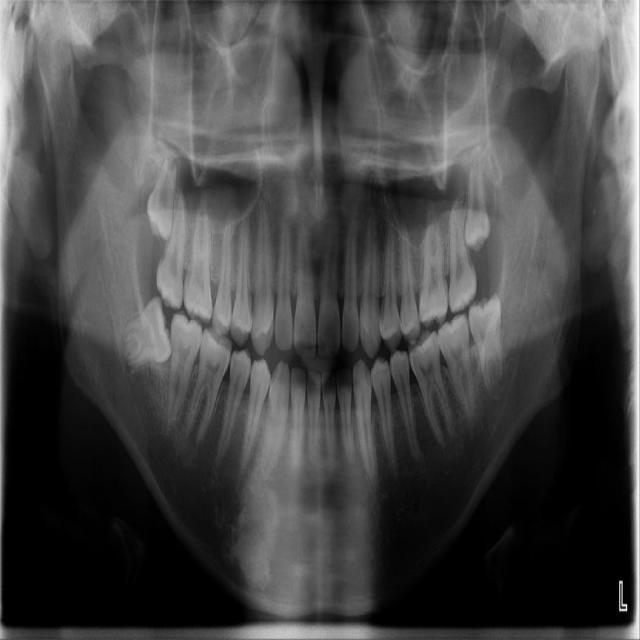3M ESPE Implant: (144, 147, 180, 241)
73: (625, 615, 631, 623)
BioHorizons Implant: (447, 189, 479, 314)
BioLife Implant: (463, 144, 496, 253)
Biomet 3i Implant: (467, 292, 504, 391)
Blue Sky Bio Implant: (435, 308, 477, 423)
Caries: (154, 186, 188, 313)
Implant: (167, 309, 204, 430)
Keystone Dental Implant: (113, 295, 175, 372)
